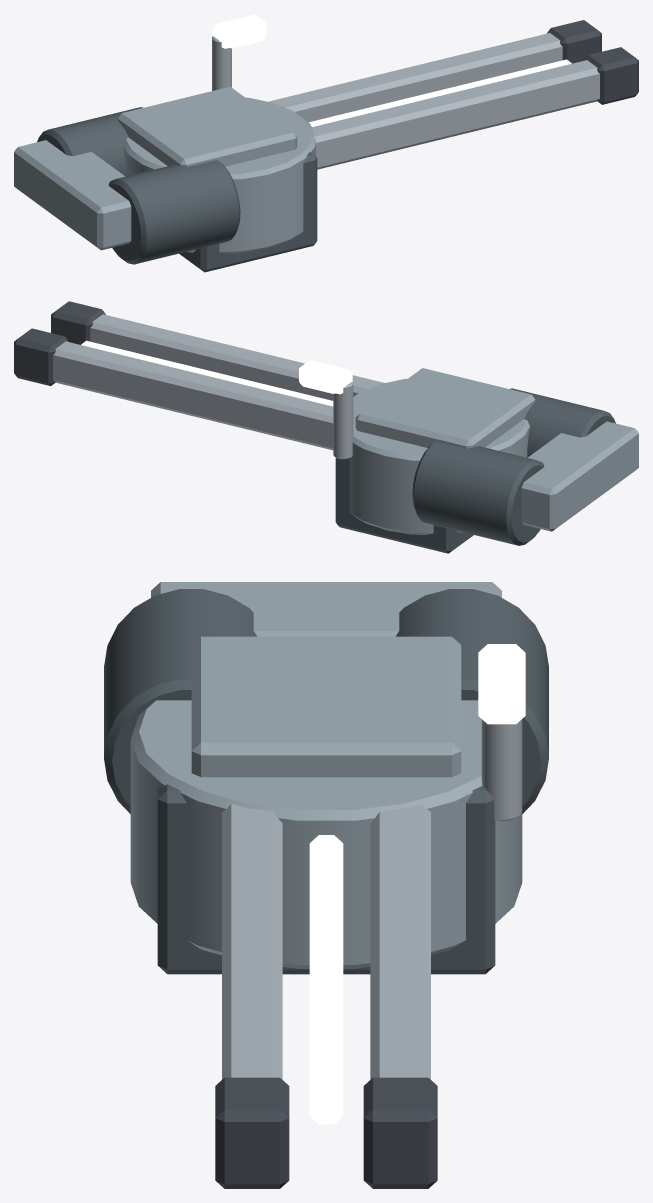
File: rail_turret_l2.glb
3 renders of one model, top to bottom at view 1: azimuth 30°, elevation 25°; view 2: azimuth 150°, elevation 25°; view 3: azimuth 270°, elevation 25°, orthographic. The views are drawn at different scales.
Visible parts, largest first — view 1: Cube.001, Cylinder.001, Cube.006, Cylinder, Cube.003, Cube.007, Cube, Cylinder.003, Cube.002, Cube.005, Cube.004, Cube.008 (+1 smaller); view 2: Cube.003, Cylinder.003, Cube.006, Cube.007, Cylinder, Cube.001, Cylinder.001, Cube, Cube.004, Cube.005, Cube.002, Cylinder.005 (+1 smaller); view 3: Cylinder, Cube.006, Cube.001, Cube.003, Cylinder.001, Cube, Cylinder.003, Cube.007, Cube.005, Cube.002, Cube.004, Cube.008 (+1 smaller).
Boxes of the visible parts, bbox=[...] form: Cube.001: bbox=[311, 60, 599, 169]; Cylinder.001: bbox=[108, 160, 240, 264]; Cube.006: bbox=[117, 86, 297, 167]; Cylinder: bbox=[123, 97, 315, 253]; Cube.003: bbox=[268, 33, 562, 122]; Cube.007: bbox=[14, 140, 131, 250]; Cube: bbox=[179, 152, 317, 272]; Cylinder.003: bbox=[37, 107, 143, 176]; Cube.002: bbox=[584, 47, 638, 104]; Cube.005: bbox=[309, 59, 571, 126]; Cube.004: bbox=[547, 20, 601, 63]; Cube.008: bbox=[212, 14, 266, 48]; Cube.003: bbox=[53, 341, 333, 450]; Cylinder.003: bbox=[412, 441, 544, 545]; Cube.006: bbox=[355, 368, 535, 448]; Cube.007: bbox=[521, 421, 638, 531]; Cylinder: bbox=[349, 379, 529, 534]; Cube.001: bbox=[90, 314, 384, 400]; Cylinder.001: bbox=[510, 388, 615, 457]; Cube: bbox=[335, 458, 473, 553]; Cube.004: bbox=[14, 328, 68, 385]; Cube.005: bbox=[81, 340, 333, 406]; Cube.002: bbox=[51, 301, 105, 344]; Cylinder.005: bbox=[333, 382, 353, 459]; Cylinder: bbox=[130, 700, 522, 968]; Cube.006: bbox=[191, 636, 461, 777]; Cube.001: bbox=[222, 804, 282, 1079]; Cube.003: bbox=[370, 804, 430, 1079]; Cylinder.001: bbox=[104, 589, 256, 813]; Cube: bbox=[157, 784, 495, 974]; Cylinder.003: bbox=[396, 589, 548, 813]; Cube.007: bbox=[151, 582, 501, 636]; Cube.005: bbox=[309, 835, 343, 1124]; Cube.002: bbox=[215, 1077, 289, 1188]; Cube.004: bbox=[363, 1077, 437, 1188]; Cube.008: bbox=[478, 644, 525, 724].
Size of the model in its own units: 1.91 by 0.525 by 0.66.
